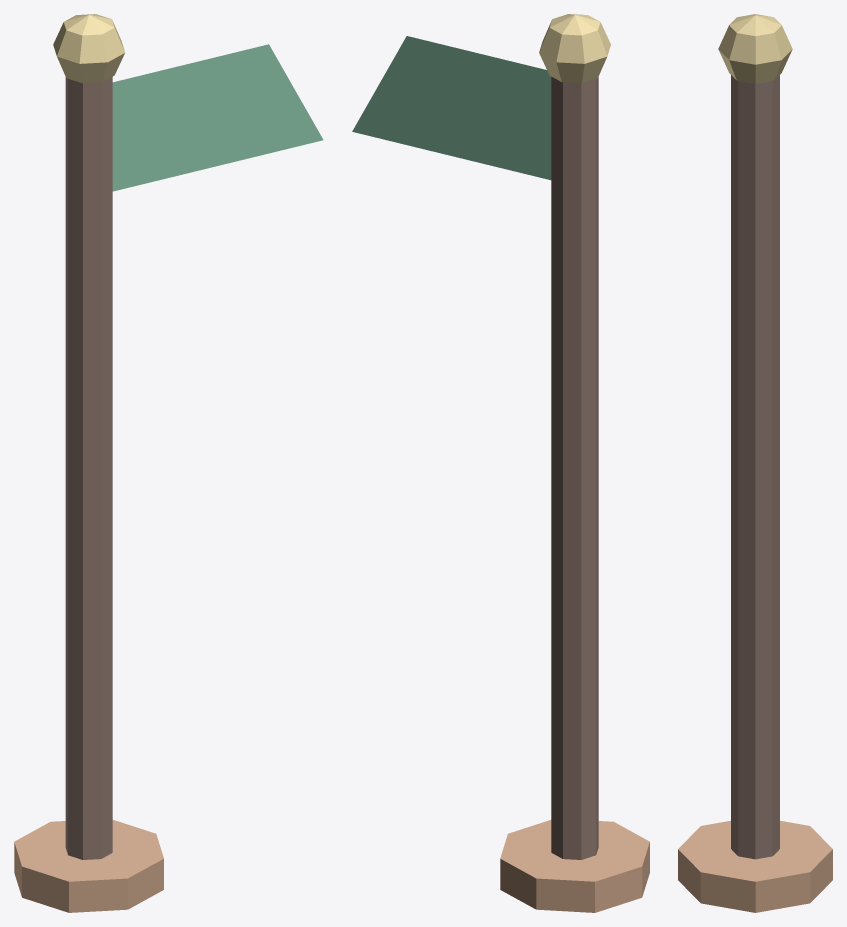
File: banderin_checkpoint.glb
3 renders of one model, left to right at view 1: azimuth 30°, elevation 25°; view 2: azimuth 150°, elevation 25°; view 3: azimuth 270°, elevation 25°, orthographic.
Parts seen in each view (by area): view 1: banderin_checkpoint; view 2: banderin_checkpoint; view 3: banderin_checkpoint.
Boxes of the visible parts, x1,y1,x2,y2 form: banderin_checkpoint: (14, 14, 323, 912); banderin_checkpoint: (352, 14, 649, 912); banderin_checkpoint: (678, 14, 832, 912).
Size of the model in its own units: 1.19 by 3.33 by 0.54.
